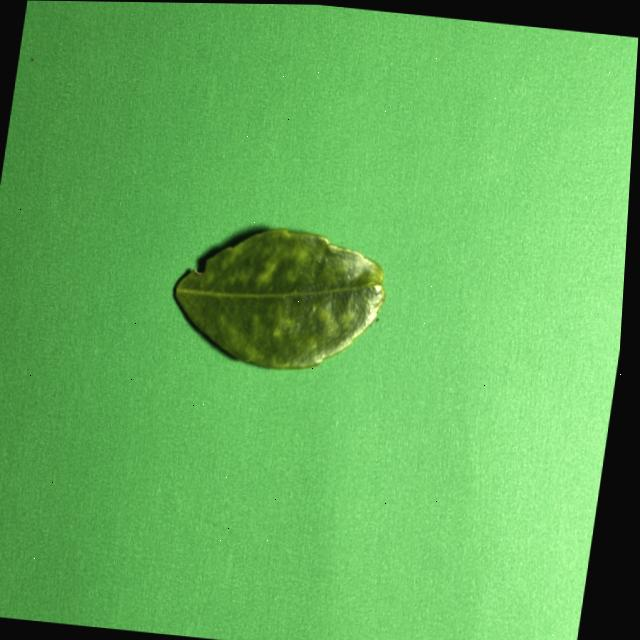greening: (175, 228, 385, 368), (293, 291, 296, 295)
